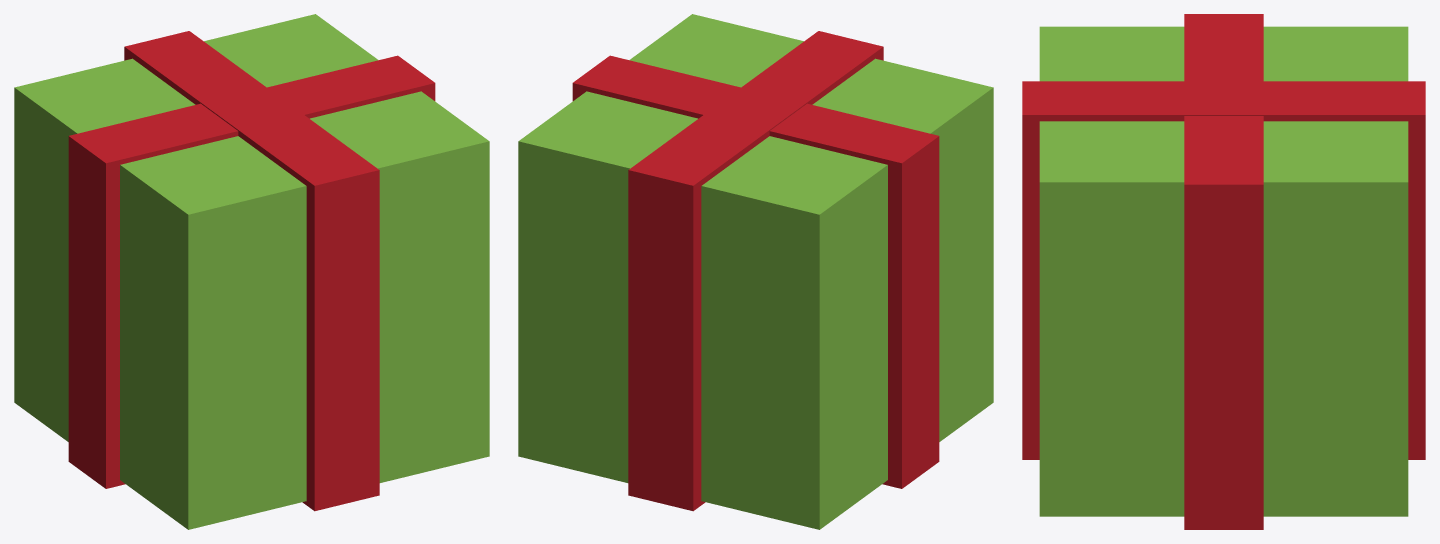
The model's file is present.fbx.
3 views of the same model, side by side, from view 1: azimuth 30°, elevation 25°; view 2: azimuth 150°, elevation 25°; view 3: azimuth 270°, elevation 25° (orthographic). The views are drawn at different scales.
Parts seen in each view (by area): view 1: Cube, Cube.002, Cube.001; view 2: Cube, Cube.002, Cube.001; view 3: Cube, Cube.001, Cube.002.
Boxes of the visible parts, box(x1,y1,x2,y2) form: Cube: box(14, 14, 489, 529); Cube.002: box(124, 31, 379, 511); Cube.001: box(68, 55, 435, 488); Cube: box(518, 14, 993, 529); Cube.002: box(628, 31, 883, 511); Cube.001: box(572, 55, 939, 488); Cube: box(1039, 26, 1408, 516); Cube.001: box(1184, 14, 1263, 529); Cube.002: box(1022, 81, 1425, 459).
Size of the model in its own units: 219 by 207 by 219.
